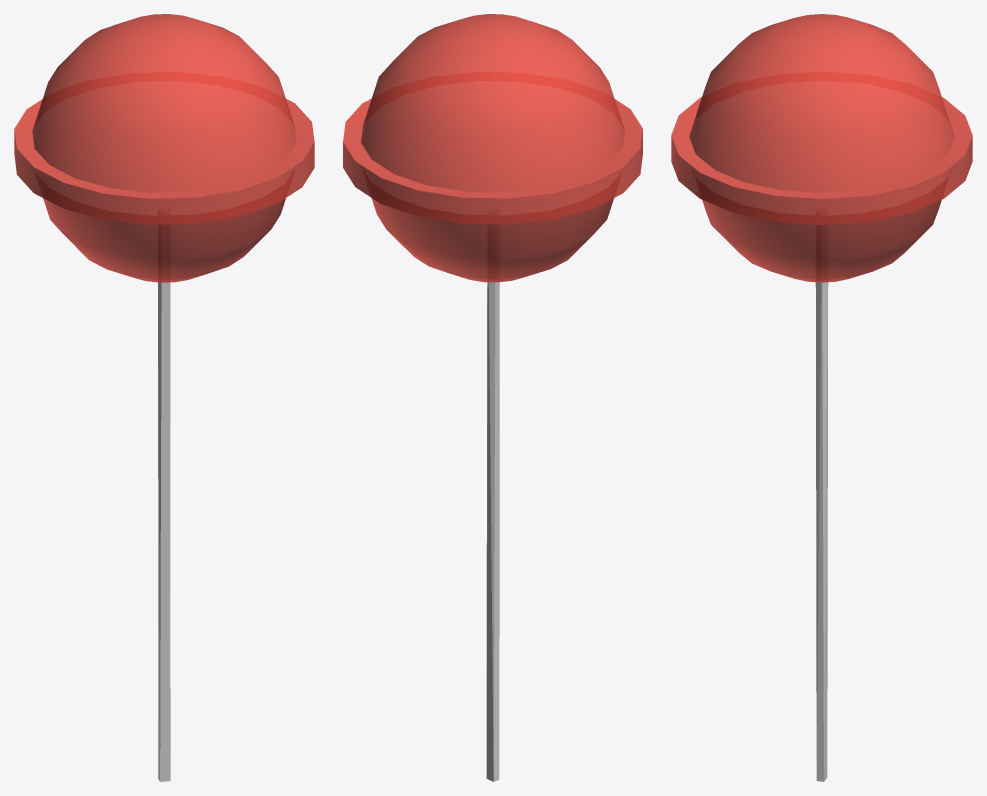
File: lollipop-plant-red.glb
The picture shows the model from 3 angles, left to right: view 1: azimuth 30°, elevation 25°; view 2: azimuth 150°, elevation 25°; view 3: azimuth 270°, elevation 25°; orthographic projection.
Parts seen in each view (by area): view 1: lollipop-plant-red; view 2: lollipop-plant-red; view 3: lollipop-plant-red.
Part boxes in pixels (x1,y1,x2,y2): lollipop-plant-red: (14, 14, 314, 781); lollipop-plant-red: (343, 14, 642, 781); lollipop-plant-red: (671, 14, 972, 781).
Size of what is drawn, in the model's own units: 0.5415 by 1.49 by 0.5415.
